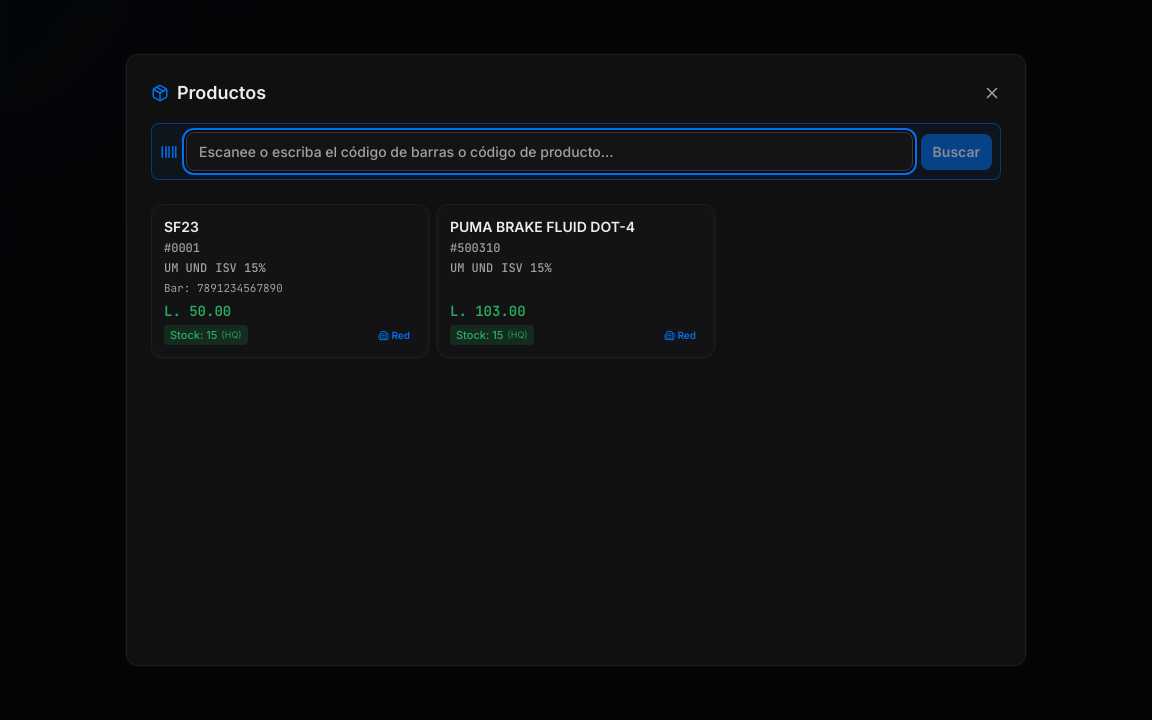
Test: ProductModal › muestra badge de stock y permite consultar la disponibilidad en red de sucursales
Expected: the text "SF23" is shown, [164,218,199,235]
Expected: the text "Stock: 15 (HQ)" below "L. 50.00" is shown, [164,325,248,345]
# Clic en botón "Red" para consultar otras sucursales
What coordinates should you click on to do the following:
click the button with test id "network-stock-0001"
I would click on:
 (394, 335)
Its box is [372,326,416,344].
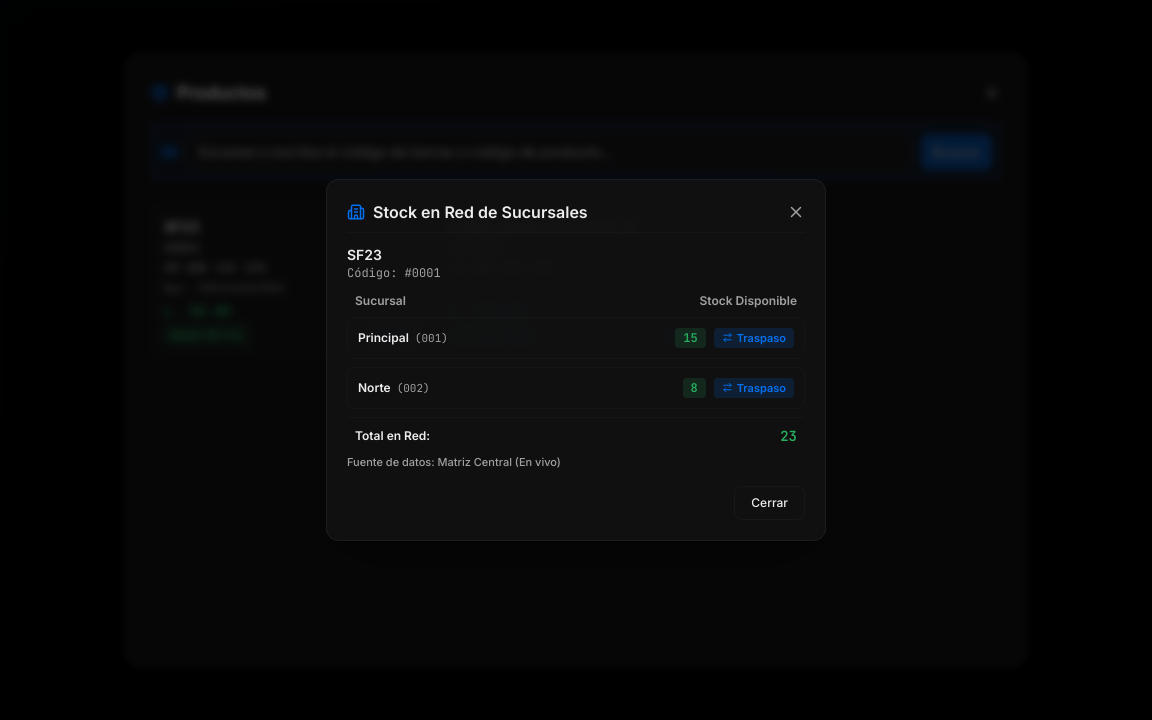
Now the heading "Stock en Red de Sucursales" is shown, box [373,200,588,224]
Now the text "Principal" is shown, box [358,330,409,345]
Now the text "Norte" is shown, box [358,380,391,395]
# Cerrar modal
What coordinates should you click on to do the following:
click the button "Cerrar"
I would click on:
 (770, 503)
Its box is [734,486,805,520].
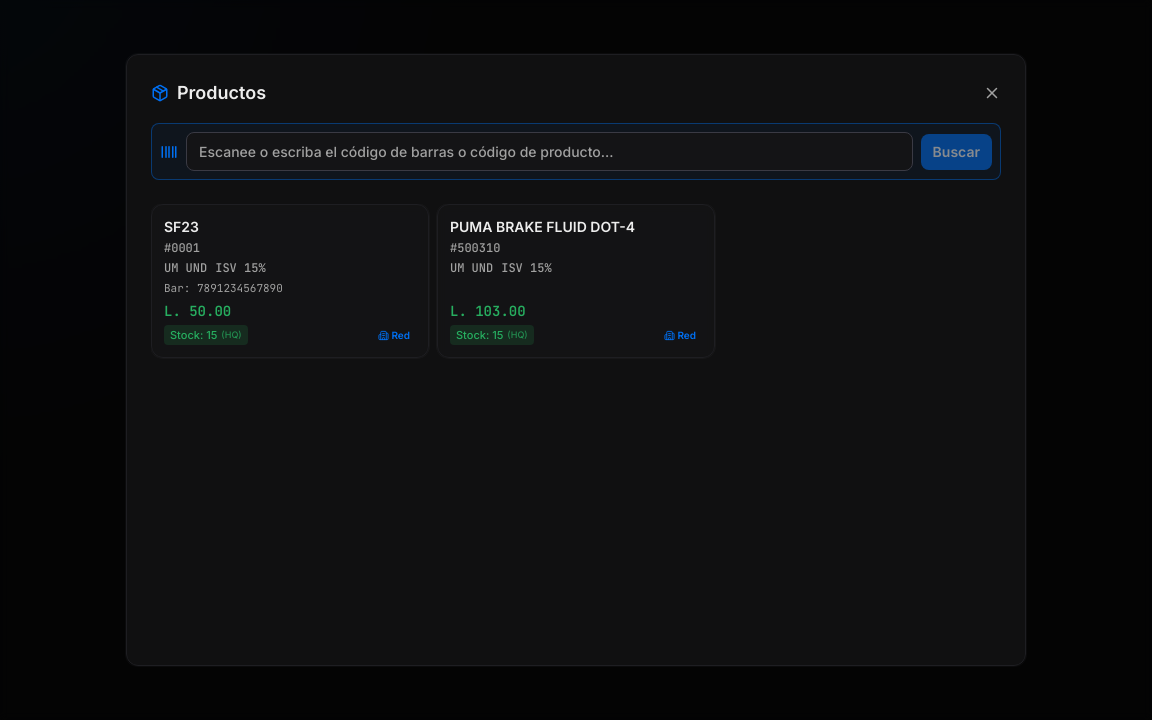
Now the heading "Stock en Red de Sucursales" is gone
